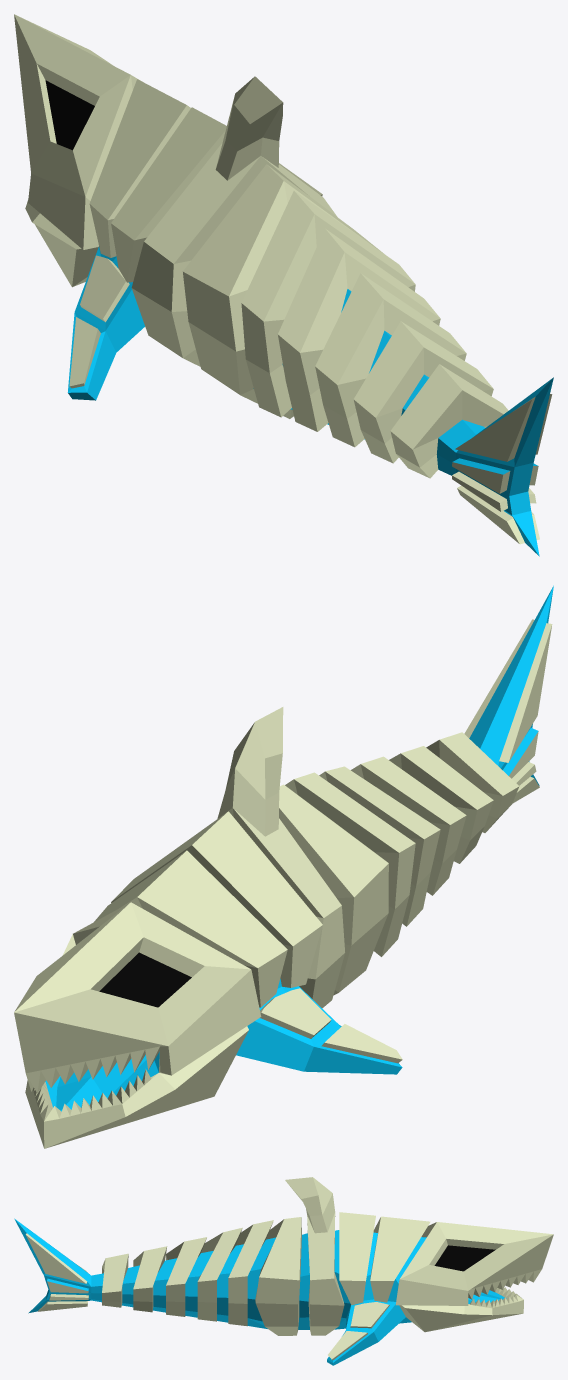
File: water Charcter.fbx
3 views of the same model, one above another, from view 1: azimuth 30°, elevation 25°; view 2: azimuth 150°, elevation 25°; view 3: azimuth 270°, elevation 25° (orthographic). The views are drawn at different scales.
Parts seen in each view (by area): view 1: Cylinder; view 2: Cylinder; view 3: Cylinder.
Boxes of the visible parts, <box> form: Cylinder: <box>14,14,553,556</box>; Cylinder: <box>14,585,553,1148</box>; Cylinder: <box>14,1177,553,1365</box>.
Bounding box in the file's own units: 773 × 701 × 2161.
